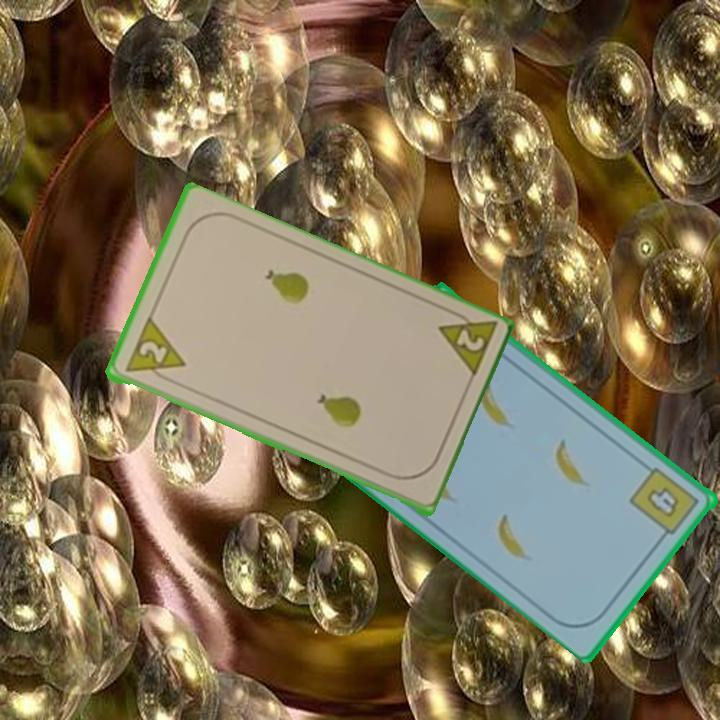2p: (433, 304, 499, 383), (121, 316, 188, 386)
4b: (626, 463, 704, 544)
